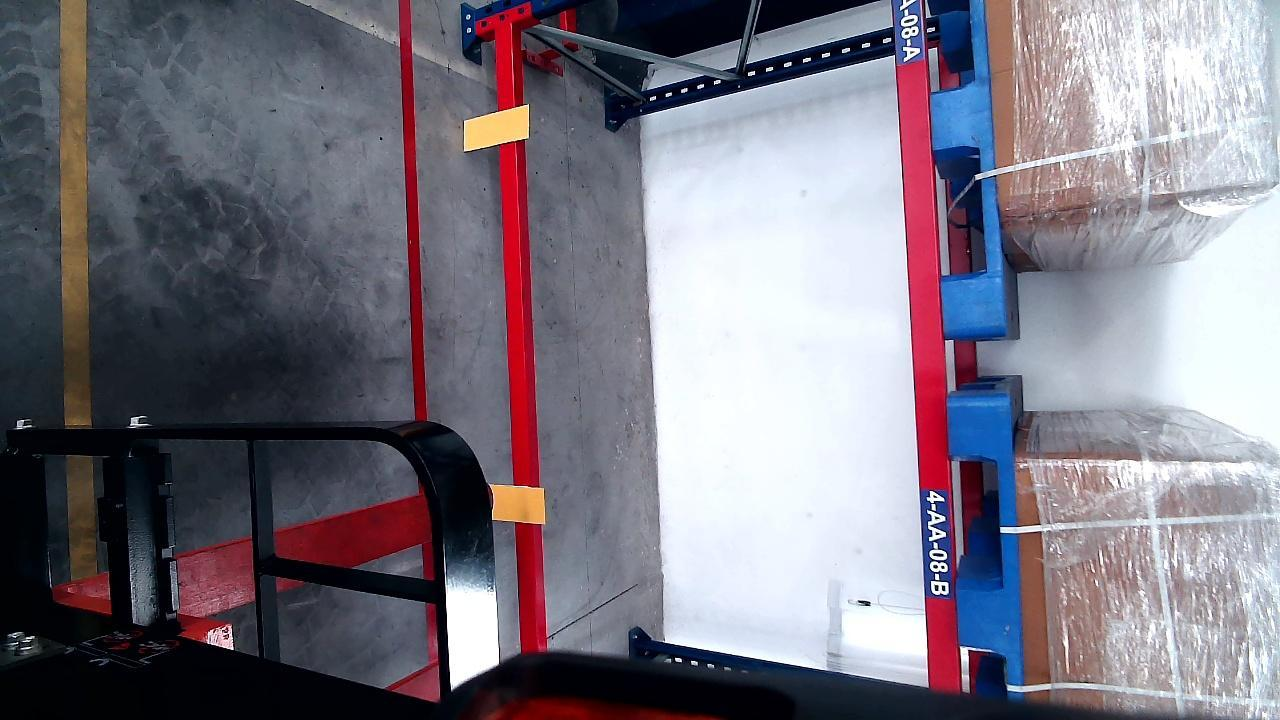red_line: (397, 0, 432, 429)
yellow_line: (59, 1, 93, 419)
